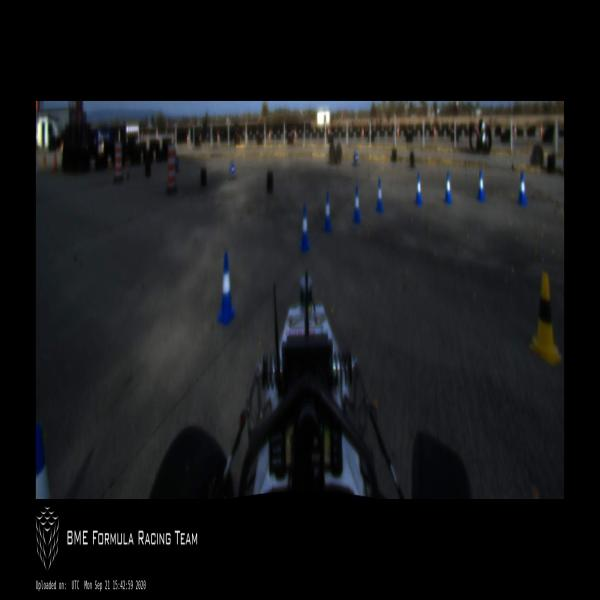blue_cone: (218, 252, 235, 324), (299, 205, 310, 251), (322, 191, 332, 232), (517, 170, 527, 205), (414, 172, 423, 206), (353, 187, 361, 224), (444, 170, 452, 205), (375, 179, 383, 213), (476, 172, 485, 200)
yellow_cone: (531, 274, 562, 364)
